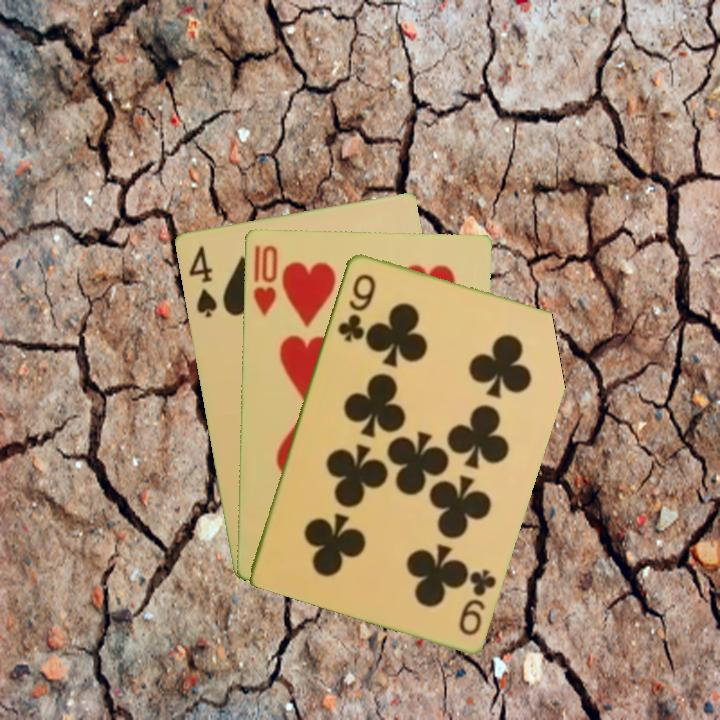10h: (250, 241, 280, 319)
4s: (184, 242, 220, 321)
9c: (333, 269, 379, 345), (455, 565, 499, 638)
